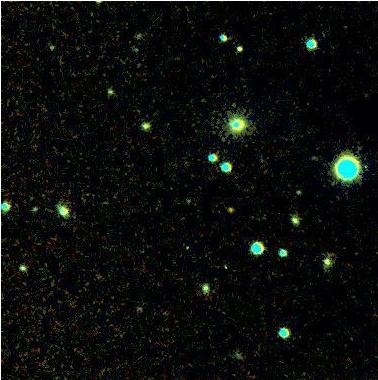star: (216, 193, 246, 223)
